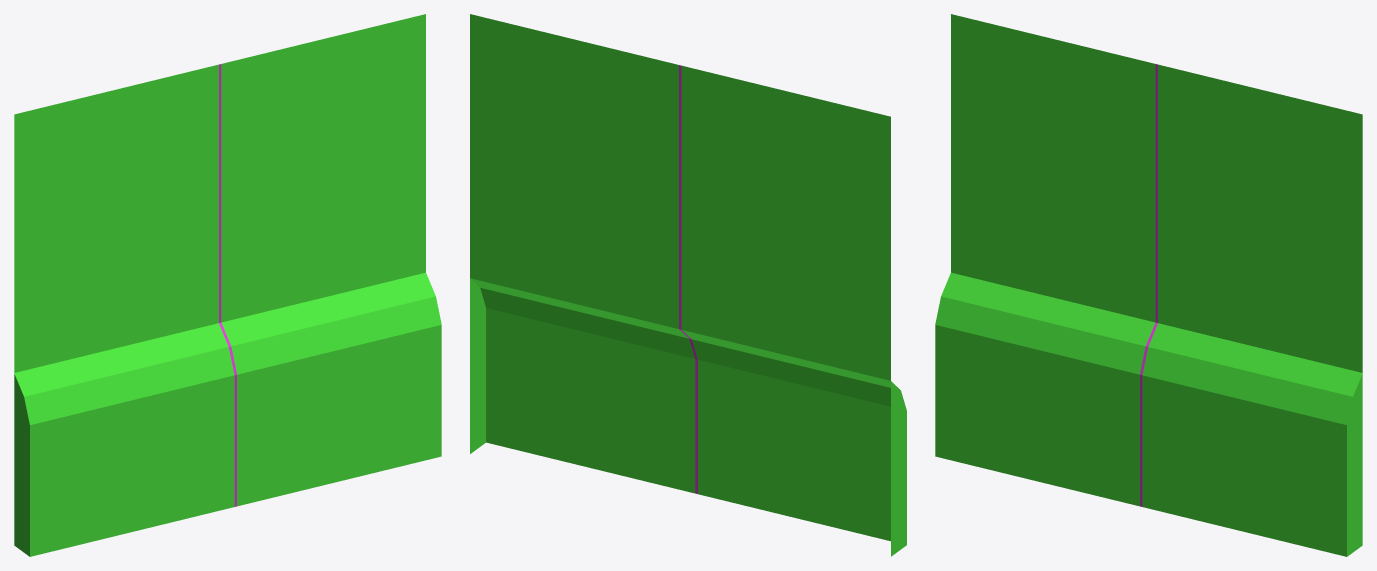
File: Wall_43_A_Straight.fbx
3 views of the same model, side by side, from view 1: azimuth 30°, elevation 25°; view 2: azimuth 150°, elevation 25°; view 3: azimuth 330°, elevation 25° (orthographic). The views are drawn at different scales.
Visible parts, largest first — view 1: Wall_43_A_Straight; view 2: Wall_43_A_Straight; view 3: Wall_43_A_Straight.
Part boxes in pixels (x1,y1,x2,y2): Wall_43_A_Straight: [14, 14, 441, 556]; Wall_43_A_Straight: [470, 14, 906, 556]; Wall_43_A_Straight: [935, 14, 1362, 556].
Size of the model in its own units: 457 by 457 by 30.24.
